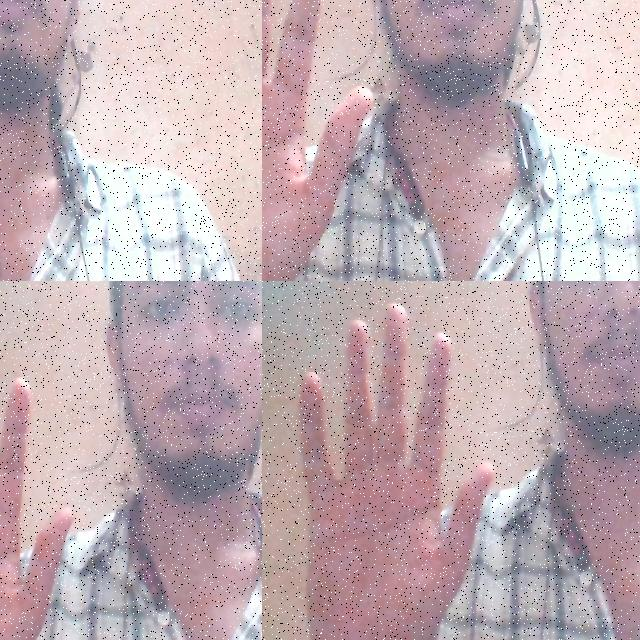Hello: (269, 292, 510, 640), (262, 0, 381, 281), (0, 341, 97, 640)
